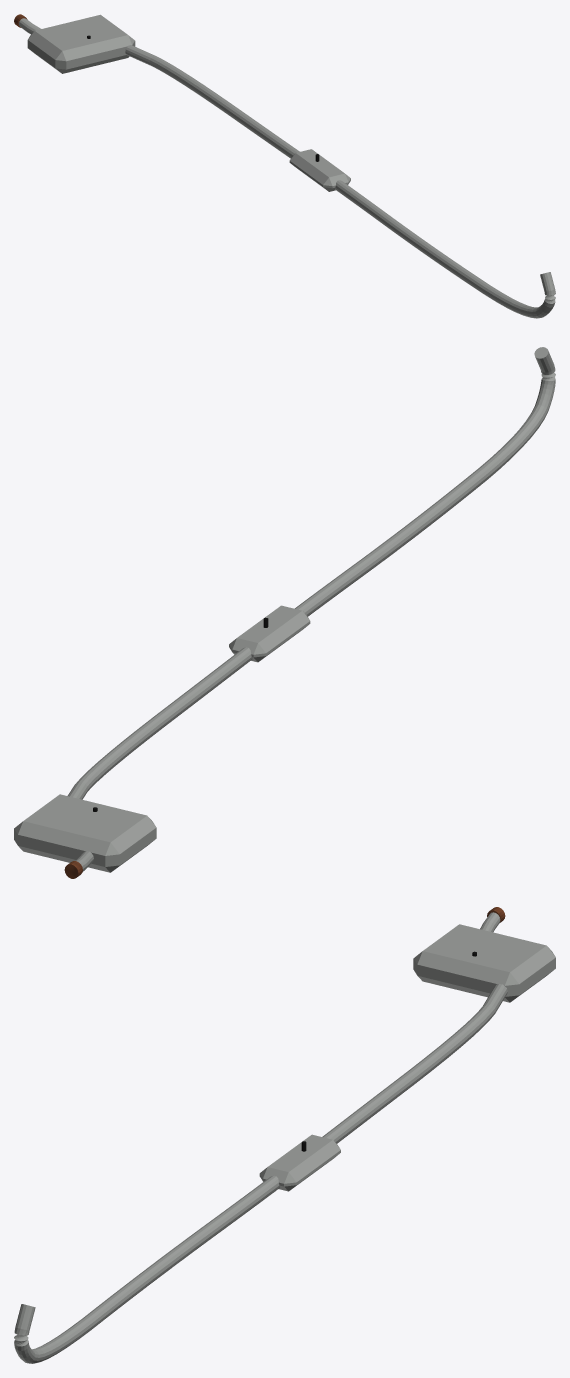
File: escapamento.glb
3 views of the same model, one above another, from view 1: azimuth 30°, elevation 25°; view 2: azimuth 150°, elevation 25°; view 3: azimuth 330°, elevation 25° (orthographic). The views are drawn at different scales.
Parts seen in each view (by area): view 1: escapamento_aco_galv; view 2: escapamento_aco_galv; view 3: escapamento_aco_galv.
Boxes of the visible parts, x1,y1,x2,y2 form: escapamento_aco_galv: (19, 14, 555, 318); escapamento_aco_galv: (14, 347, 555, 872); escapamento_aco_galv: (14, 912, 555, 1363).
Bounding box in the file's own units: 0.524 × 0.3168 × 3.89.
Materials: 3 (1 with a texture image).
